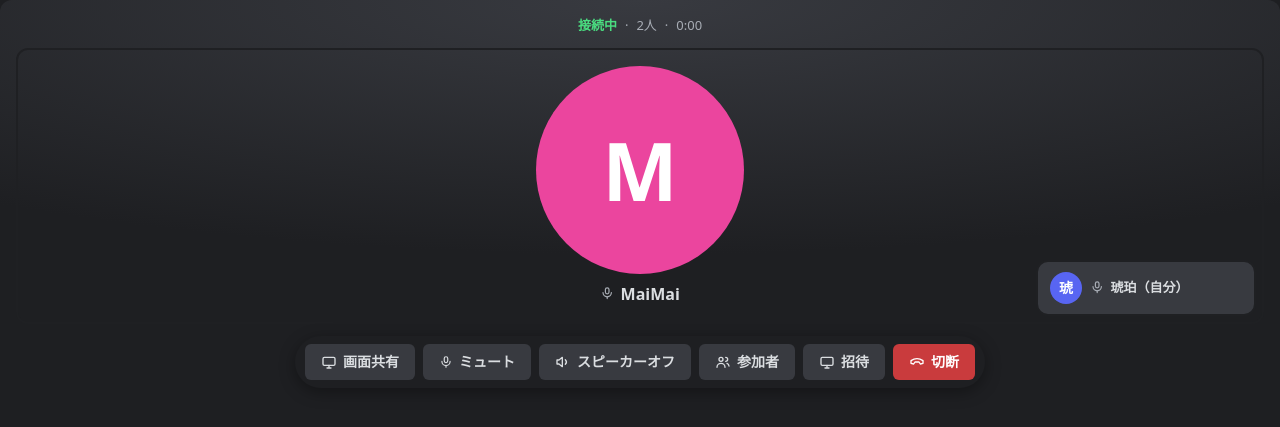
Test: 終了時のリセットと台本の発話 › 招待のコピーに失敗したら成功と言わず、手動コピー欄を出す
Click the button with aria-label "招待リンクをコピー" at (844, 362), box [803,344,885,380]
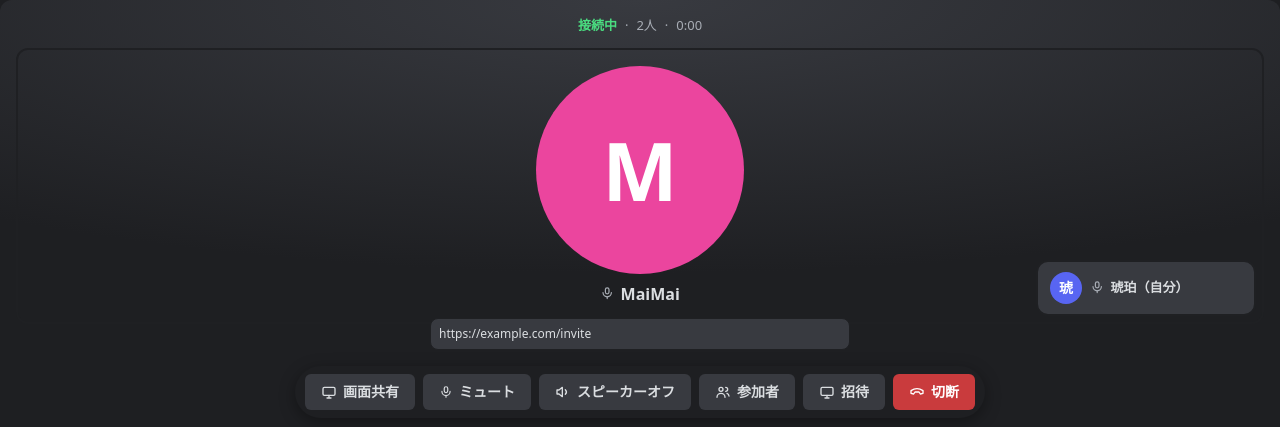
Now the message shows "コピーできませんでした", box [485,336,795,352]
Now the field named "招待リンク（手動でコピー）" is shown, box [430,318,850,350]
